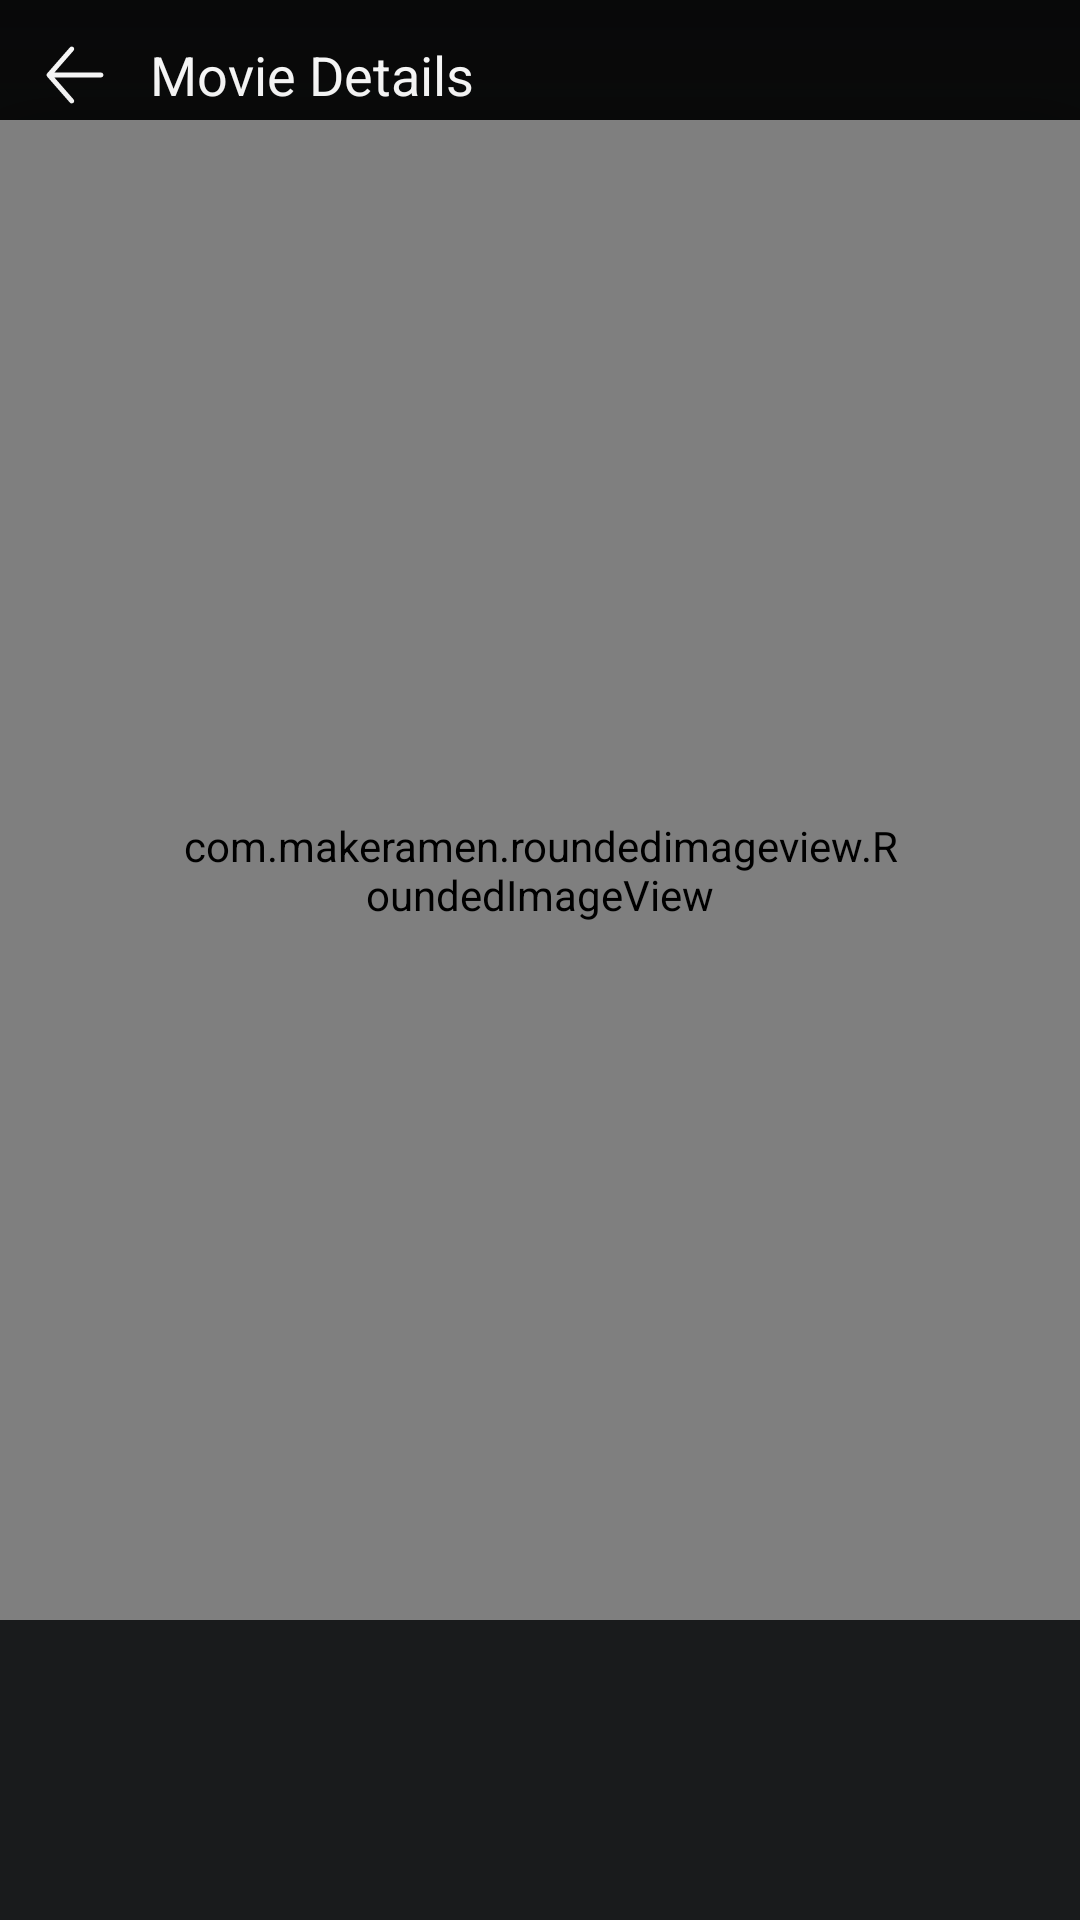

Where icons sit on this 1080x1920 app screen, as box(x1, y1, x2, y2):
arrow left: box(0, 0, 150, 120)
